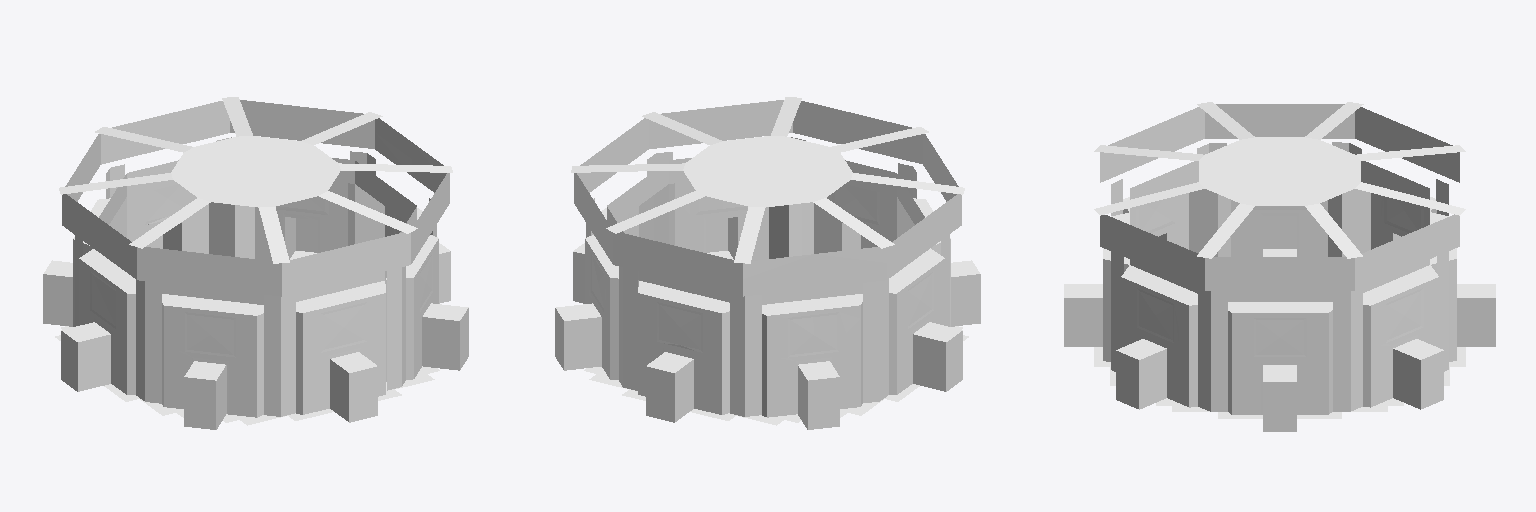
The model's file is LOB.obj.
3 views of the same model, side by side, from view 1: azimuth 30°, elevation 25°; view 2: azimuth 150°, elevation 25°; view 3: azimuth 270°, elevation 25° (orthographic).
Visible parts, largest first — view 1: LOB; view 2: LOB; view 3: LOB.
Part boxes in pixels (bbox=[...]): LOB: bbox=[43, 97, 468, 429]; LOB: bbox=[555, 97, 980, 429]; LOB: bbox=[1064, 102, 1495, 431].
Bounding box in the file's own units: 280 × 121 × 280.